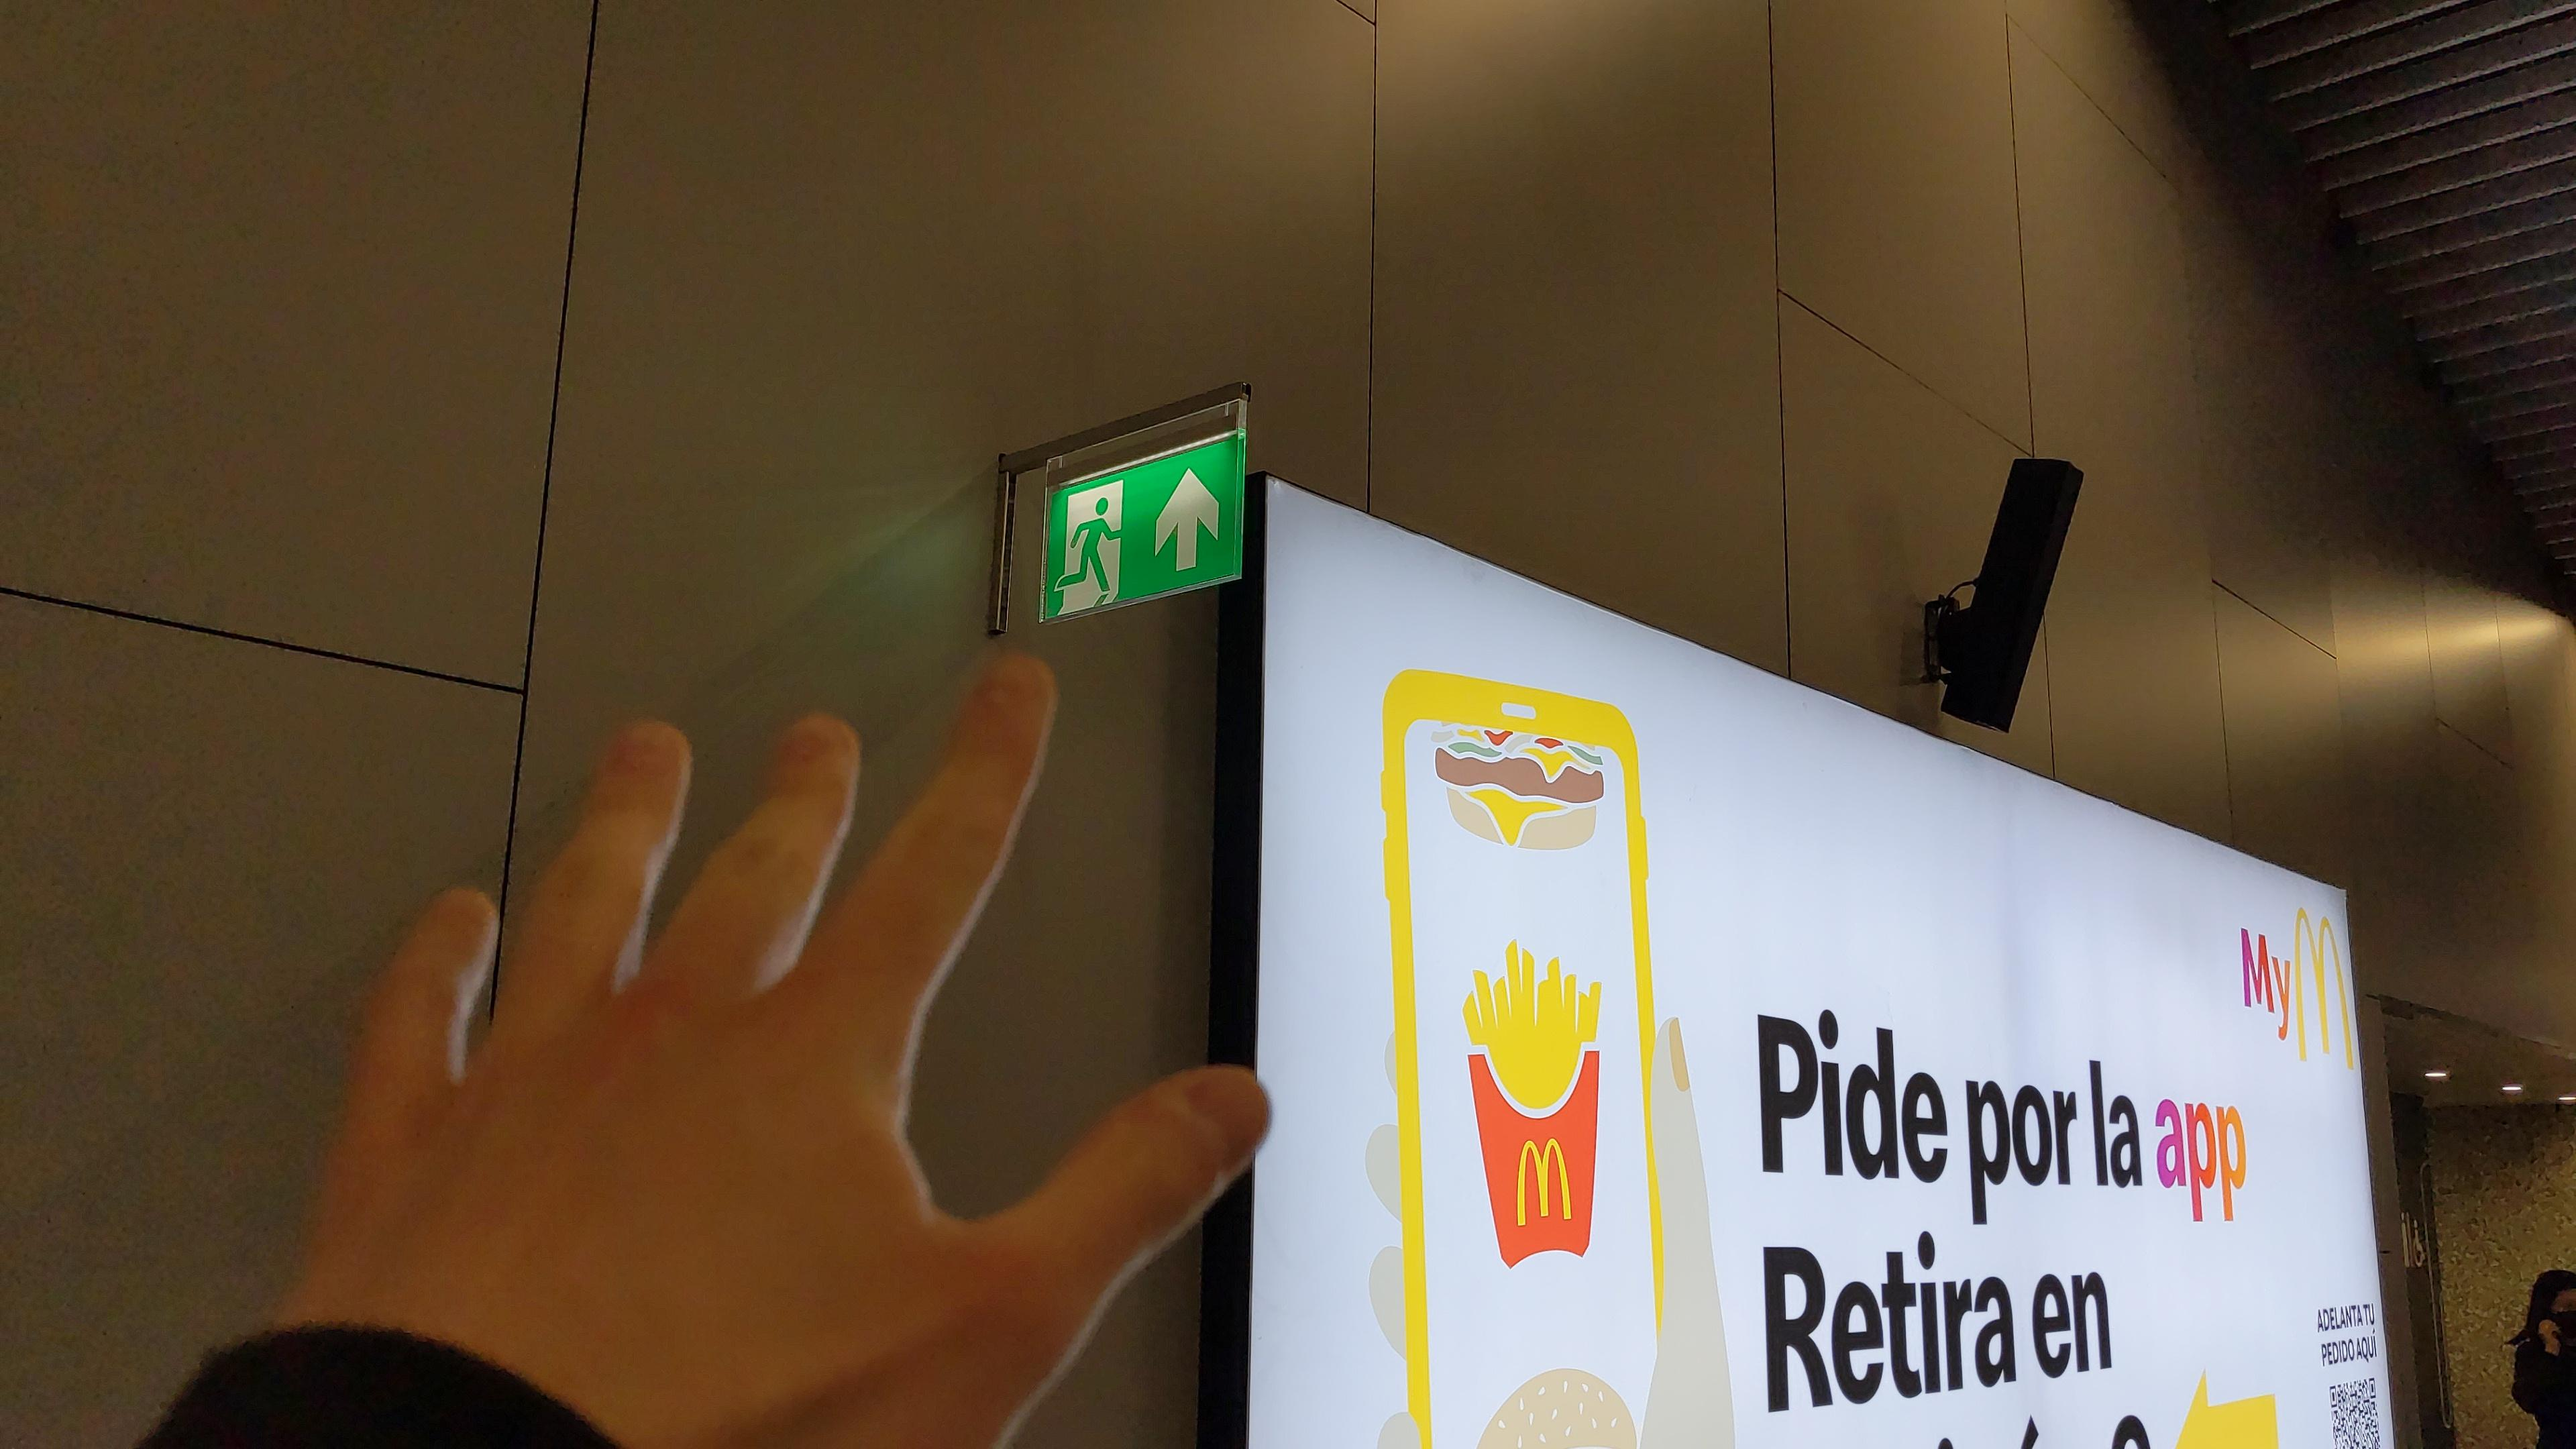emergency down arrow: (1148, 464, 1230, 586)
emergency exit: (1054, 485, 1132, 612)
